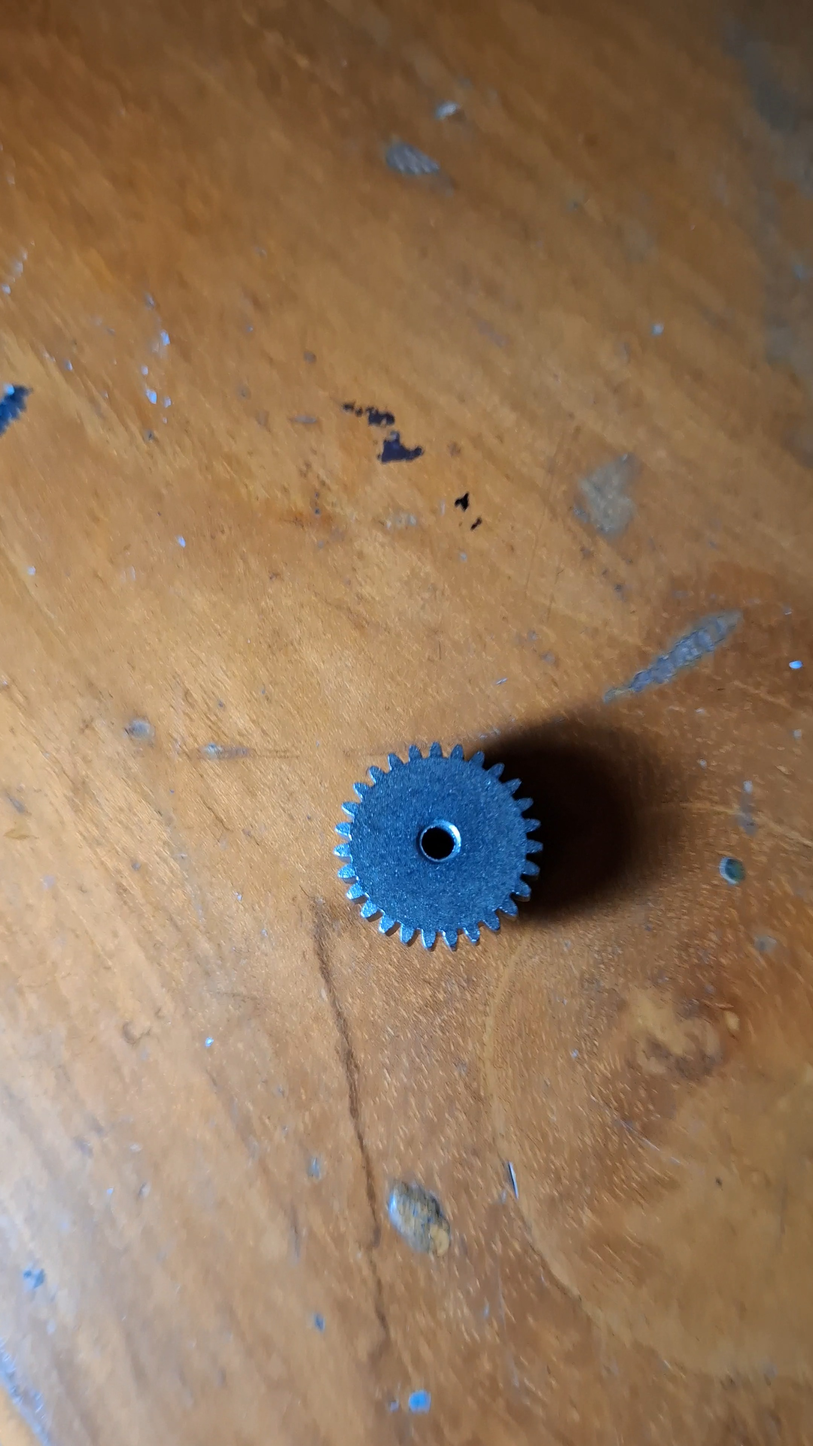spur gear: (335, 743, 542, 948)
